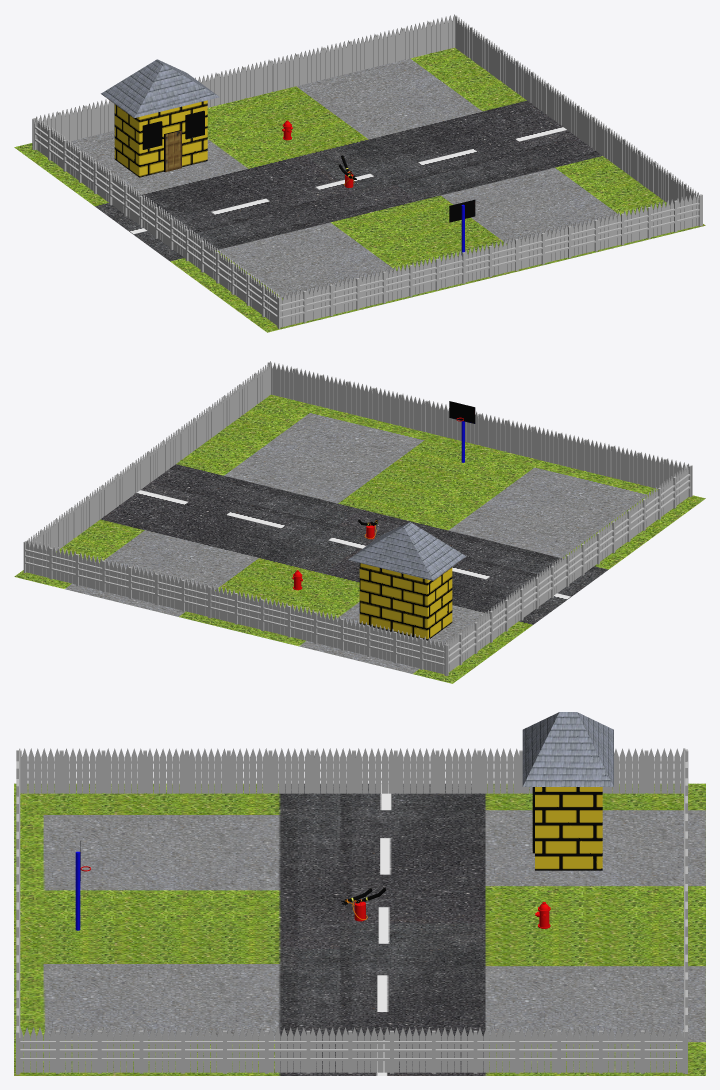
Rendered from brizgalna.gltf.
The picture shows the model from 3 angles, top to bottom: view 1: azimuth 30°, elevation 25°; view 2: azimuth 150°, elevation 25°; view 3: azimuth 270°, elevation 25°; orthographic projection. The views are drawn at different scales.
Visible parts, largest first — view 1: Grass, Fence, House, Roof, Doors, Hoop, BigWindow, BigWindow.001; view 2: Grass, Fence, House, Roof, Hoop; view 3: Grass, Fence, Roof, House.
Part boxes in pixels (x1,y1,x2,y2): Grass: [14, 47, 705, 332]; Fence: [32, 14, 702, 328]; House: [114, 100, 207, 177]; Roof: [101, 59, 219, 117]; Doors: [164, 130, 181, 172]; Hoop: [449, 199, 475, 255]; BigWindow: [142, 121, 162, 149]; BigWindow.001: [185, 110, 204, 139]; Grass: [14, 394, 705, 683]; Fence: [23, 361, 692, 675]; House: [359, 563, 452, 640]; Roof: [348, 522, 466, 580]; Hoop: [449, 401, 475, 462]; Grass: [14, 783, 705, 1075]; Fence: [16, 748, 688, 1074]; Roof: [522, 712, 613, 786]; House: [535, 787, 602, 870].
Size of the model in its own units: 133 by 44.67 by 133.
